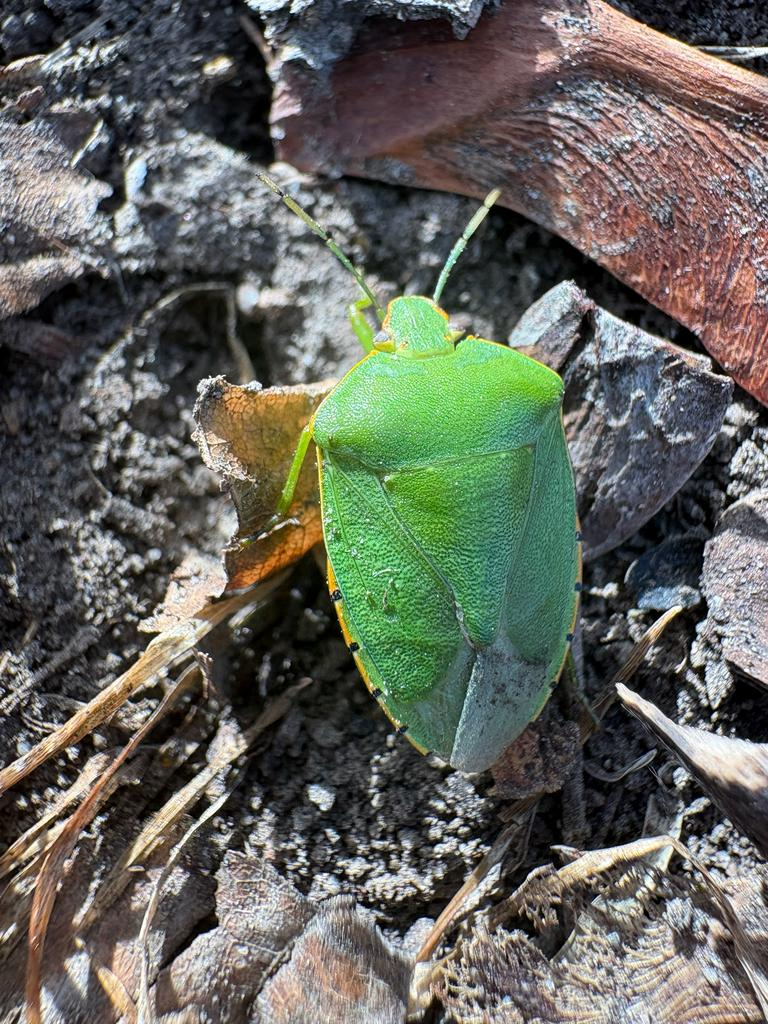stink_bugs: (166, 124, 702, 856)
